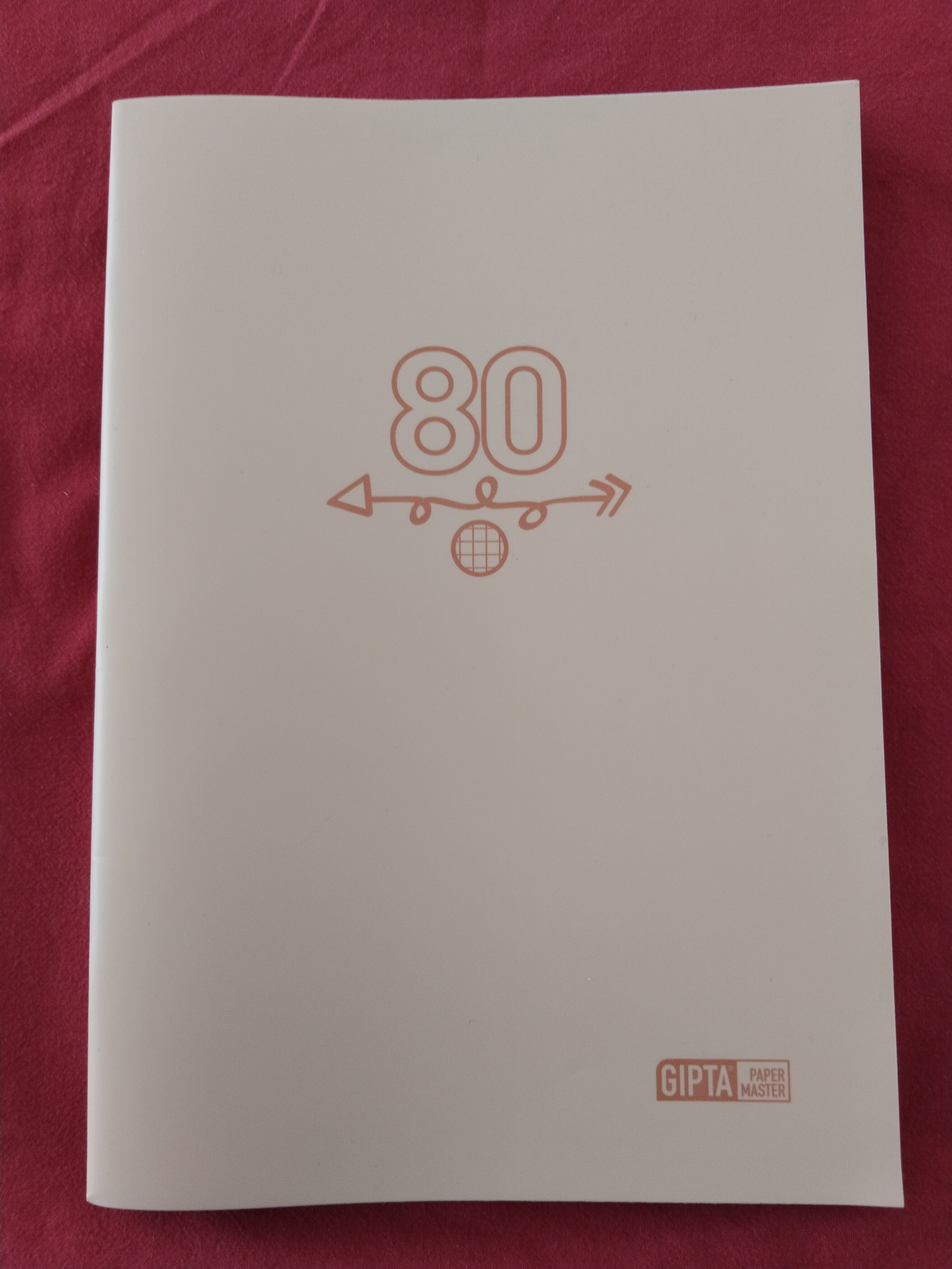80_sayfa_gipta_defter: (92, 93, 888, 1187)
